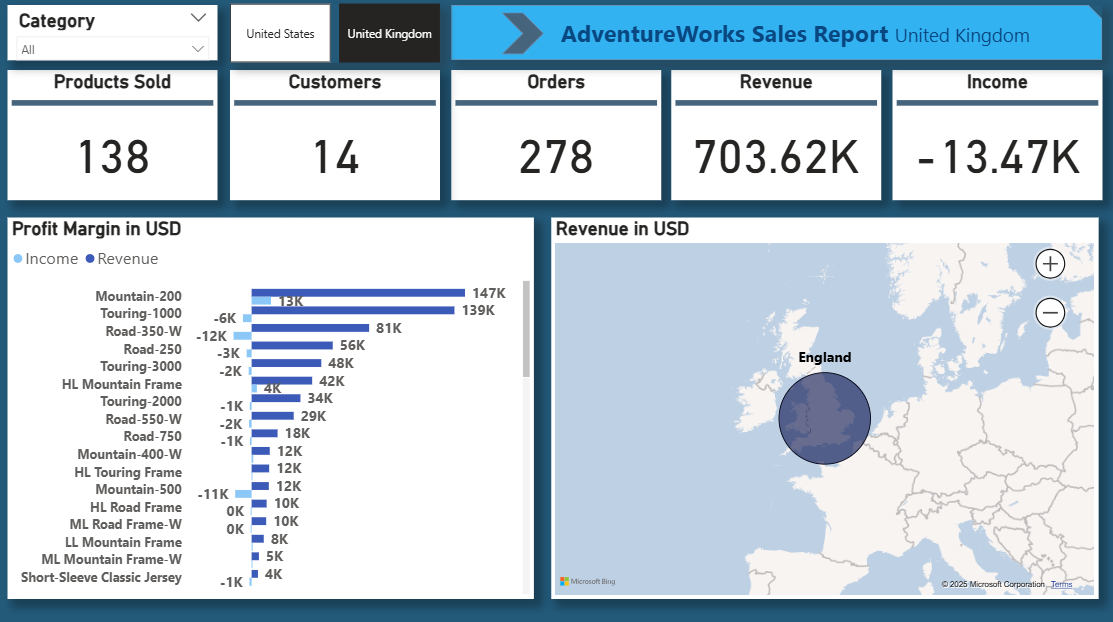

What the dashboard file says about the page in this screenshot:
{"tool":"powerbi","page":{"name":"United Kingdom","canvas":[1280,720],"ordinal":1},"visuals":[{"type":"shape","box":[0,0,1280,720],"z":0},{"type":"card","title":"Products Sold","fields":{"Values":["Count(orders.Product)"]},"box":[14.3,85.7,240,148.6],"z":1000},{"type":"card","title":"Orders","fields":{"Values":["CountNonNull(customers.product_id)"]},"box":[521.4,85.7,240,148.6],"z":2000},{"type":"card","title":"Customers","fields":{"Values":["Count(customers.Customer ID)"]},"box":[268.6,85.7,240,148.6],"z":3000},{"type":"card","title":"Revenue","fields":{"Values":["Sum(orders.Total Price)"]},"box":[772.9,85.7,240,148.6],"z":4000},{"type":"card","title":"Income","fields":{"Values":["Sum(orders.Income)"]},"box":[1025.7,85.7,240,148.6],"z":5000},{"type":"slicer","fields":{"Values":["orders.Category"]},"box":[14.3,11.4,240,62.9],"z":6000},{"type":"shape","box":[521.4,11.4,744.3,62.9],"z":7000},{"type":"shape","box":[579,20,49,48.1],"z":8000},{"type":"textbox","box":[641.8,20,613.6,60],"z":9000},{"type":"clusteredBarChart","title":"Profit Margin in USD","fields":{"Y":["Sum(orders.Income)","Sum(orders.Total Price)"],"Category":["orders.Model"]},"box":[14.3,254.3,601.4,435.7],"z":10000},{"type":"map","title":"Revenue in USD","fields":{"Category":["customers.State"],"Size":["Sum(orders.Total Price)"]},"box":[635.7,254.3,625.7,435.7],"z":11000},{"type":"pageNavigator","box":[268.8,9.6,240,67.1],"z":12000}]}

Visuals, with their boxes in screenshot pixels (x1, y1, x2, y2), scaled from the page's 1280x720 canvas onto the 1113x622 screenshot:
shape: box=[0, 0, 1112, 621]
"Products Sold" card: box=[12, 74, 221, 202]
"Orders" card: box=[453, 74, 662, 202]
"Customers" card: box=[234, 74, 442, 202]
"Revenue" card: box=[672, 74, 881, 202]
"Income" card: box=[892, 74, 1101, 202]
slicer - orders.Category: box=[12, 10, 221, 64]
shape: box=[453, 10, 1101, 64]
shape: box=[503, 17, 546, 59]
textbox: box=[558, 17, 1092, 69]
"Profit Margin in USD" clusteredBarChart: box=[12, 220, 535, 596]
"Revenue in USD" map: box=[553, 220, 1097, 596]
pageNavigator: box=[234, 8, 442, 66]
